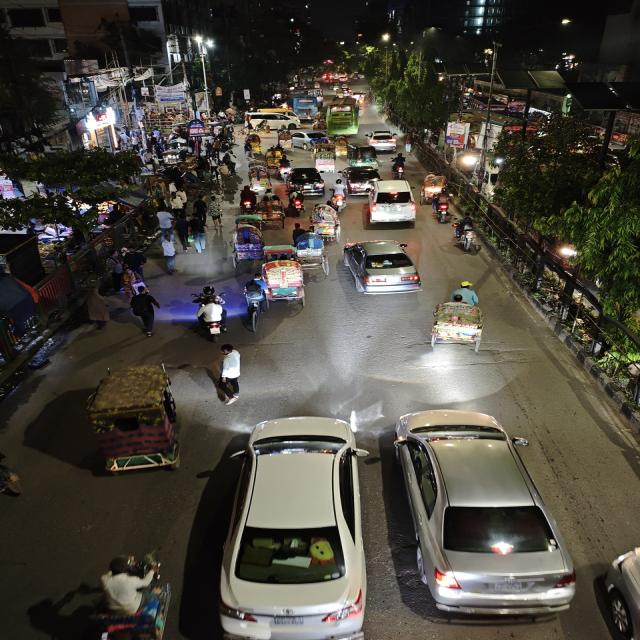bicycle: (237, 283, 267, 332)
bus: (324, 102, 361, 136), (288, 93, 322, 119)
car: (380, 406, 573, 624), (214, 412, 370, 635), (340, 238, 425, 300), (362, 182, 418, 228), (336, 166, 381, 194), (288, 166, 326, 194), (248, 111, 301, 131), (288, 130, 332, 150), (365, 129, 399, 151)
cng: (346, 142, 381, 168)
motorcycle: (83, 544, 172, 640), (193, 296, 229, 344), (450, 218, 481, 253), (428, 190, 457, 223), (285, 188, 306, 216), (389, 154, 412, 178), (276, 156, 294, 180)
pedestrian: (207, 343, 248, 405), (128, 284, 160, 339), (194, 296, 227, 343), (84, 287, 114, 333), (119, 247, 149, 290), (156, 208, 179, 252), (172, 211, 195, 251), (158, 229, 180, 269), (106, 251, 128, 291), (117, 257, 138, 297), (185, 218, 208, 252), (205, 194, 226, 230), (236, 184, 258, 214), (191, 194, 208, 221), (170, 191, 189, 213)
rickshaw: (80, 360, 187, 476), (423, 283, 500, 355), (260, 256, 309, 308), (228, 222, 266, 266), (309, 202, 342, 242), (291, 223, 326, 259), (246, 161, 272, 192), (312, 144, 338, 172), (421, 172, 446, 199), (245, 134, 263, 154)
truck: (288, 93, 322, 119)
